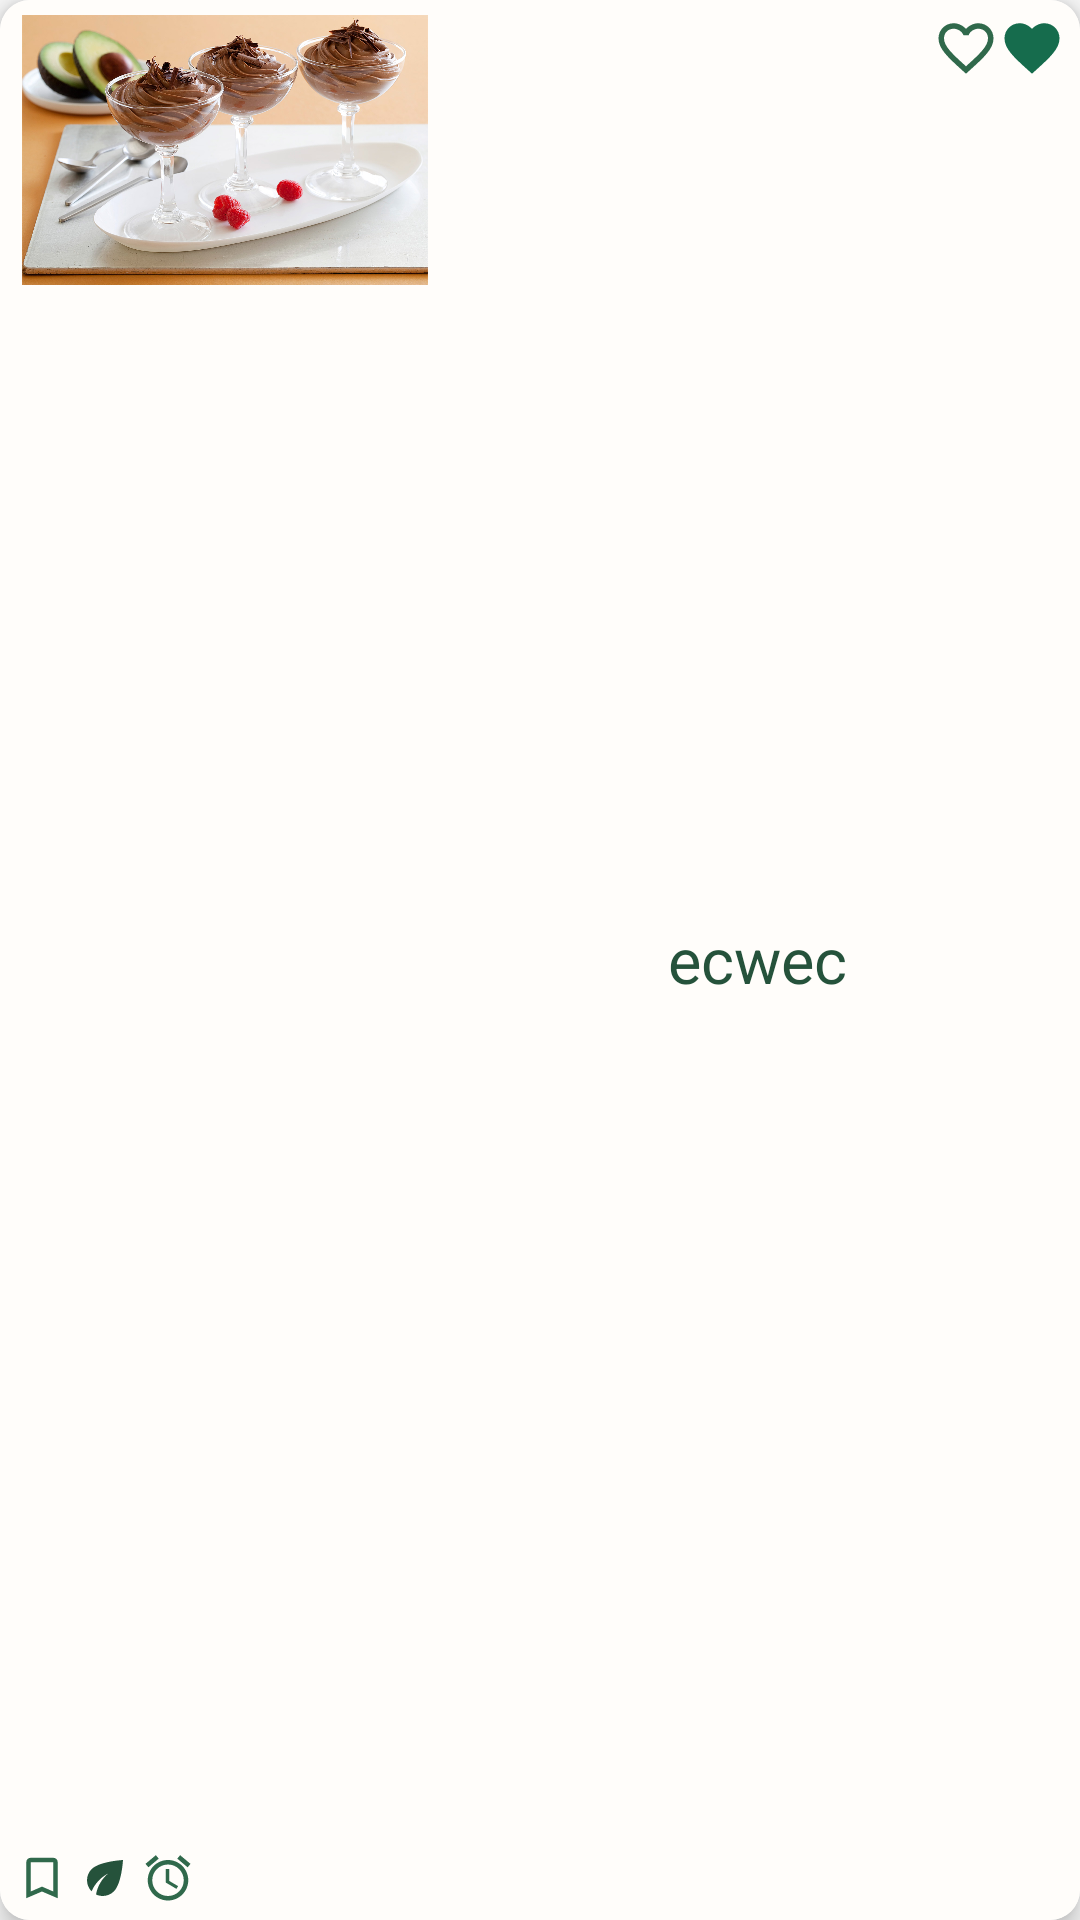

Named icons in this screenshot (1080w x 1920h) and their centers, (x=x, y=y):
access alarm: (x=168, y=1878)
bookmark border: (x=42, y=1877)
eco: (x=105, y=1878)
favorite: (x=1032, y=48)
favorite border: (x=966, y=48)
